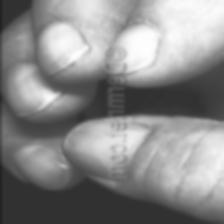Toxin: (15, 124, 106, 192), (26, 15, 94, 83), (0, 72, 48, 130), (120, 19, 168, 68)
